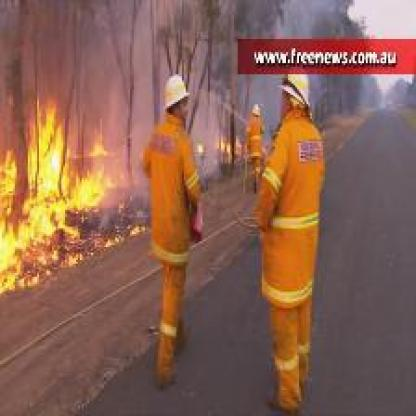fire: (2, 95, 113, 282), (210, 126, 246, 162)
smoke: (64, 4, 143, 144)
